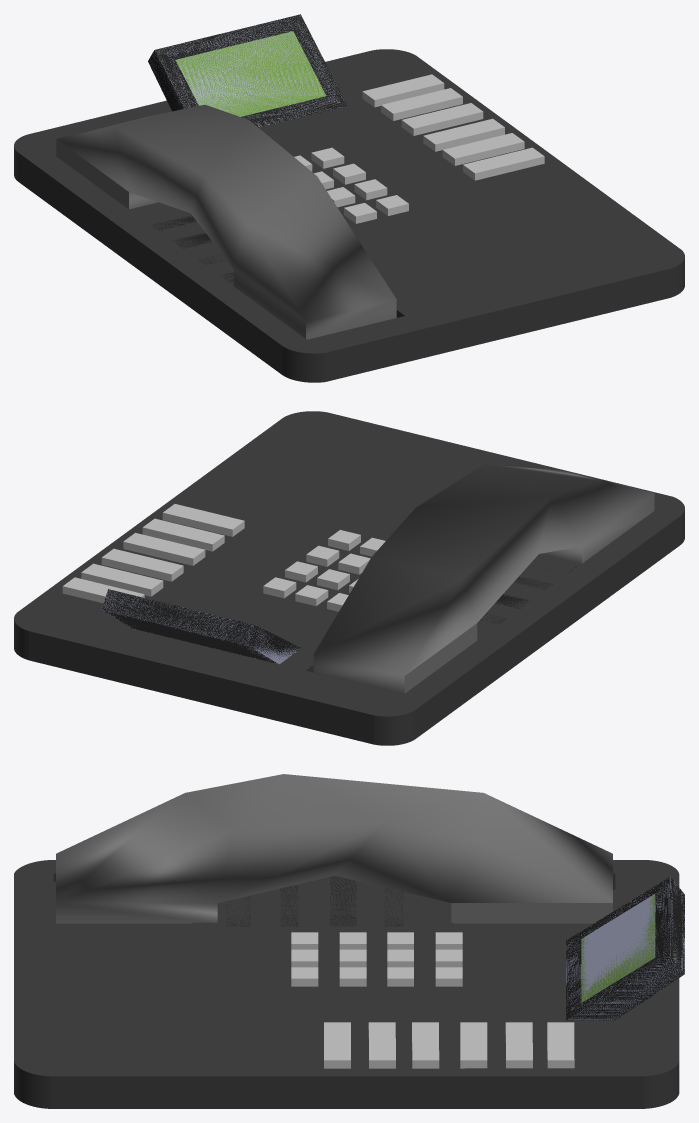
File: Phone.fbx
3 views of the same model, one above another, from view 1: azimuth 30°, elevation 25°; view 2: azimuth 150°, elevation 25°; view 3: azimuth 270°, elevation 25° (orthographic). The views are drawn at different scales.
Visible parts, largest first — view 1: Group1, Group20, Group11, Group13, Group9, Group10, Group12, Group14; view 2: Group1, Group20, Group11, Group9, Group12, Group13, Group10, Group14, Group4, Group6, Group2, Group5 (+2 smaller); view 3: Group1, Group20, Group11, Group14, Group10, Group12, Group13, Group9, Group2, Group6, Group17, Group5 (+4 smaller).
Boxes of the visible parts, x1,y1,x2,y2 form: Group1: (14,14,684,382); Group20: (56,104,396,339); Group11: (401,103,483,135); Group13: (442,133,524,165); Group9: (463,147,544,180); Group10: (381,88,462,120); Group12: (423,118,504,151); Group14: (362,74,444,107); Group1: (14,411,684,745); Group20: (313,464,654,694); Group11: (101,548,183,581); Group9: (162,504,244,536); Group12: (123,533,205,565); Group13: (142,518,224,551); Group10: (81,563,163,596); Group14: (62,577,144,603); Group4: (295,585,328,606); Group6: (263,577,296,598); Group2: (306,545,339,566); Group5: (285,561,317,582); Group1: (14,860,684,1108); Group20: (56,774,612,923); Group11: (460,1022,487,1068); Group14: (547,1022,574,1068); Group10: (505,1022,532,1068); Group12: (412,1022,439,1068); Group13: (368,1022,395,1068); Group9: (324,1022,350,1068); Group2: (339,967,366,986); Group6: (435,967,462,986); Group17: (291,967,318,986); Group5: (387,967,413,986).
Size of the model in its own units: 0.57 by 0.1619 by 0.7465.
